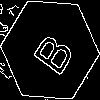B: (25, 25, 76, 78)
